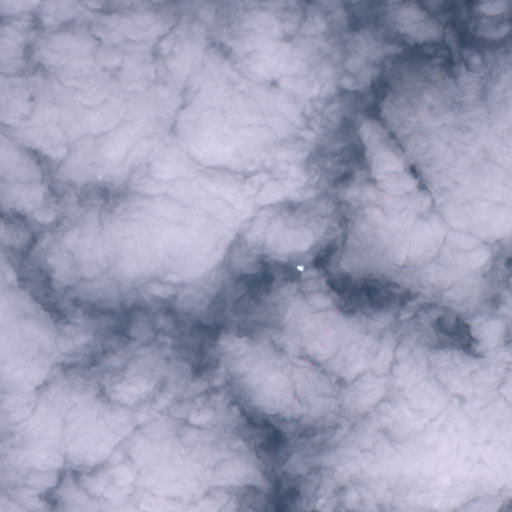Iceberg: (297, 266, 303, 270), (98, 177, 100, 178)
